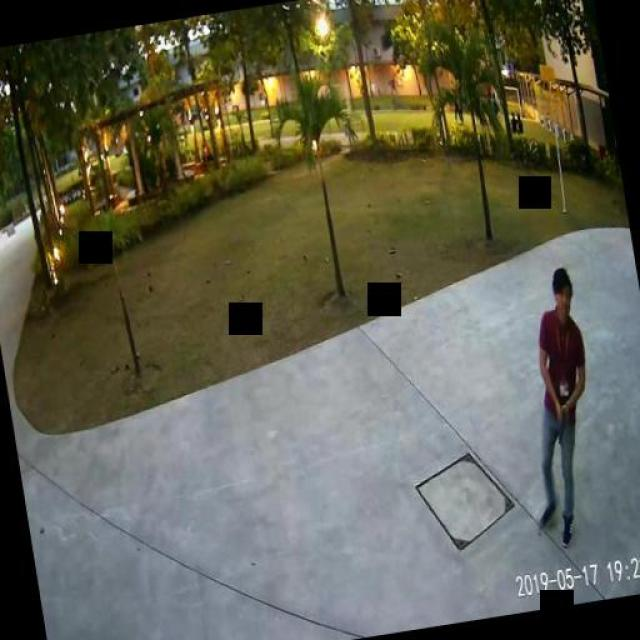gun: (550, 402, 572, 442)
